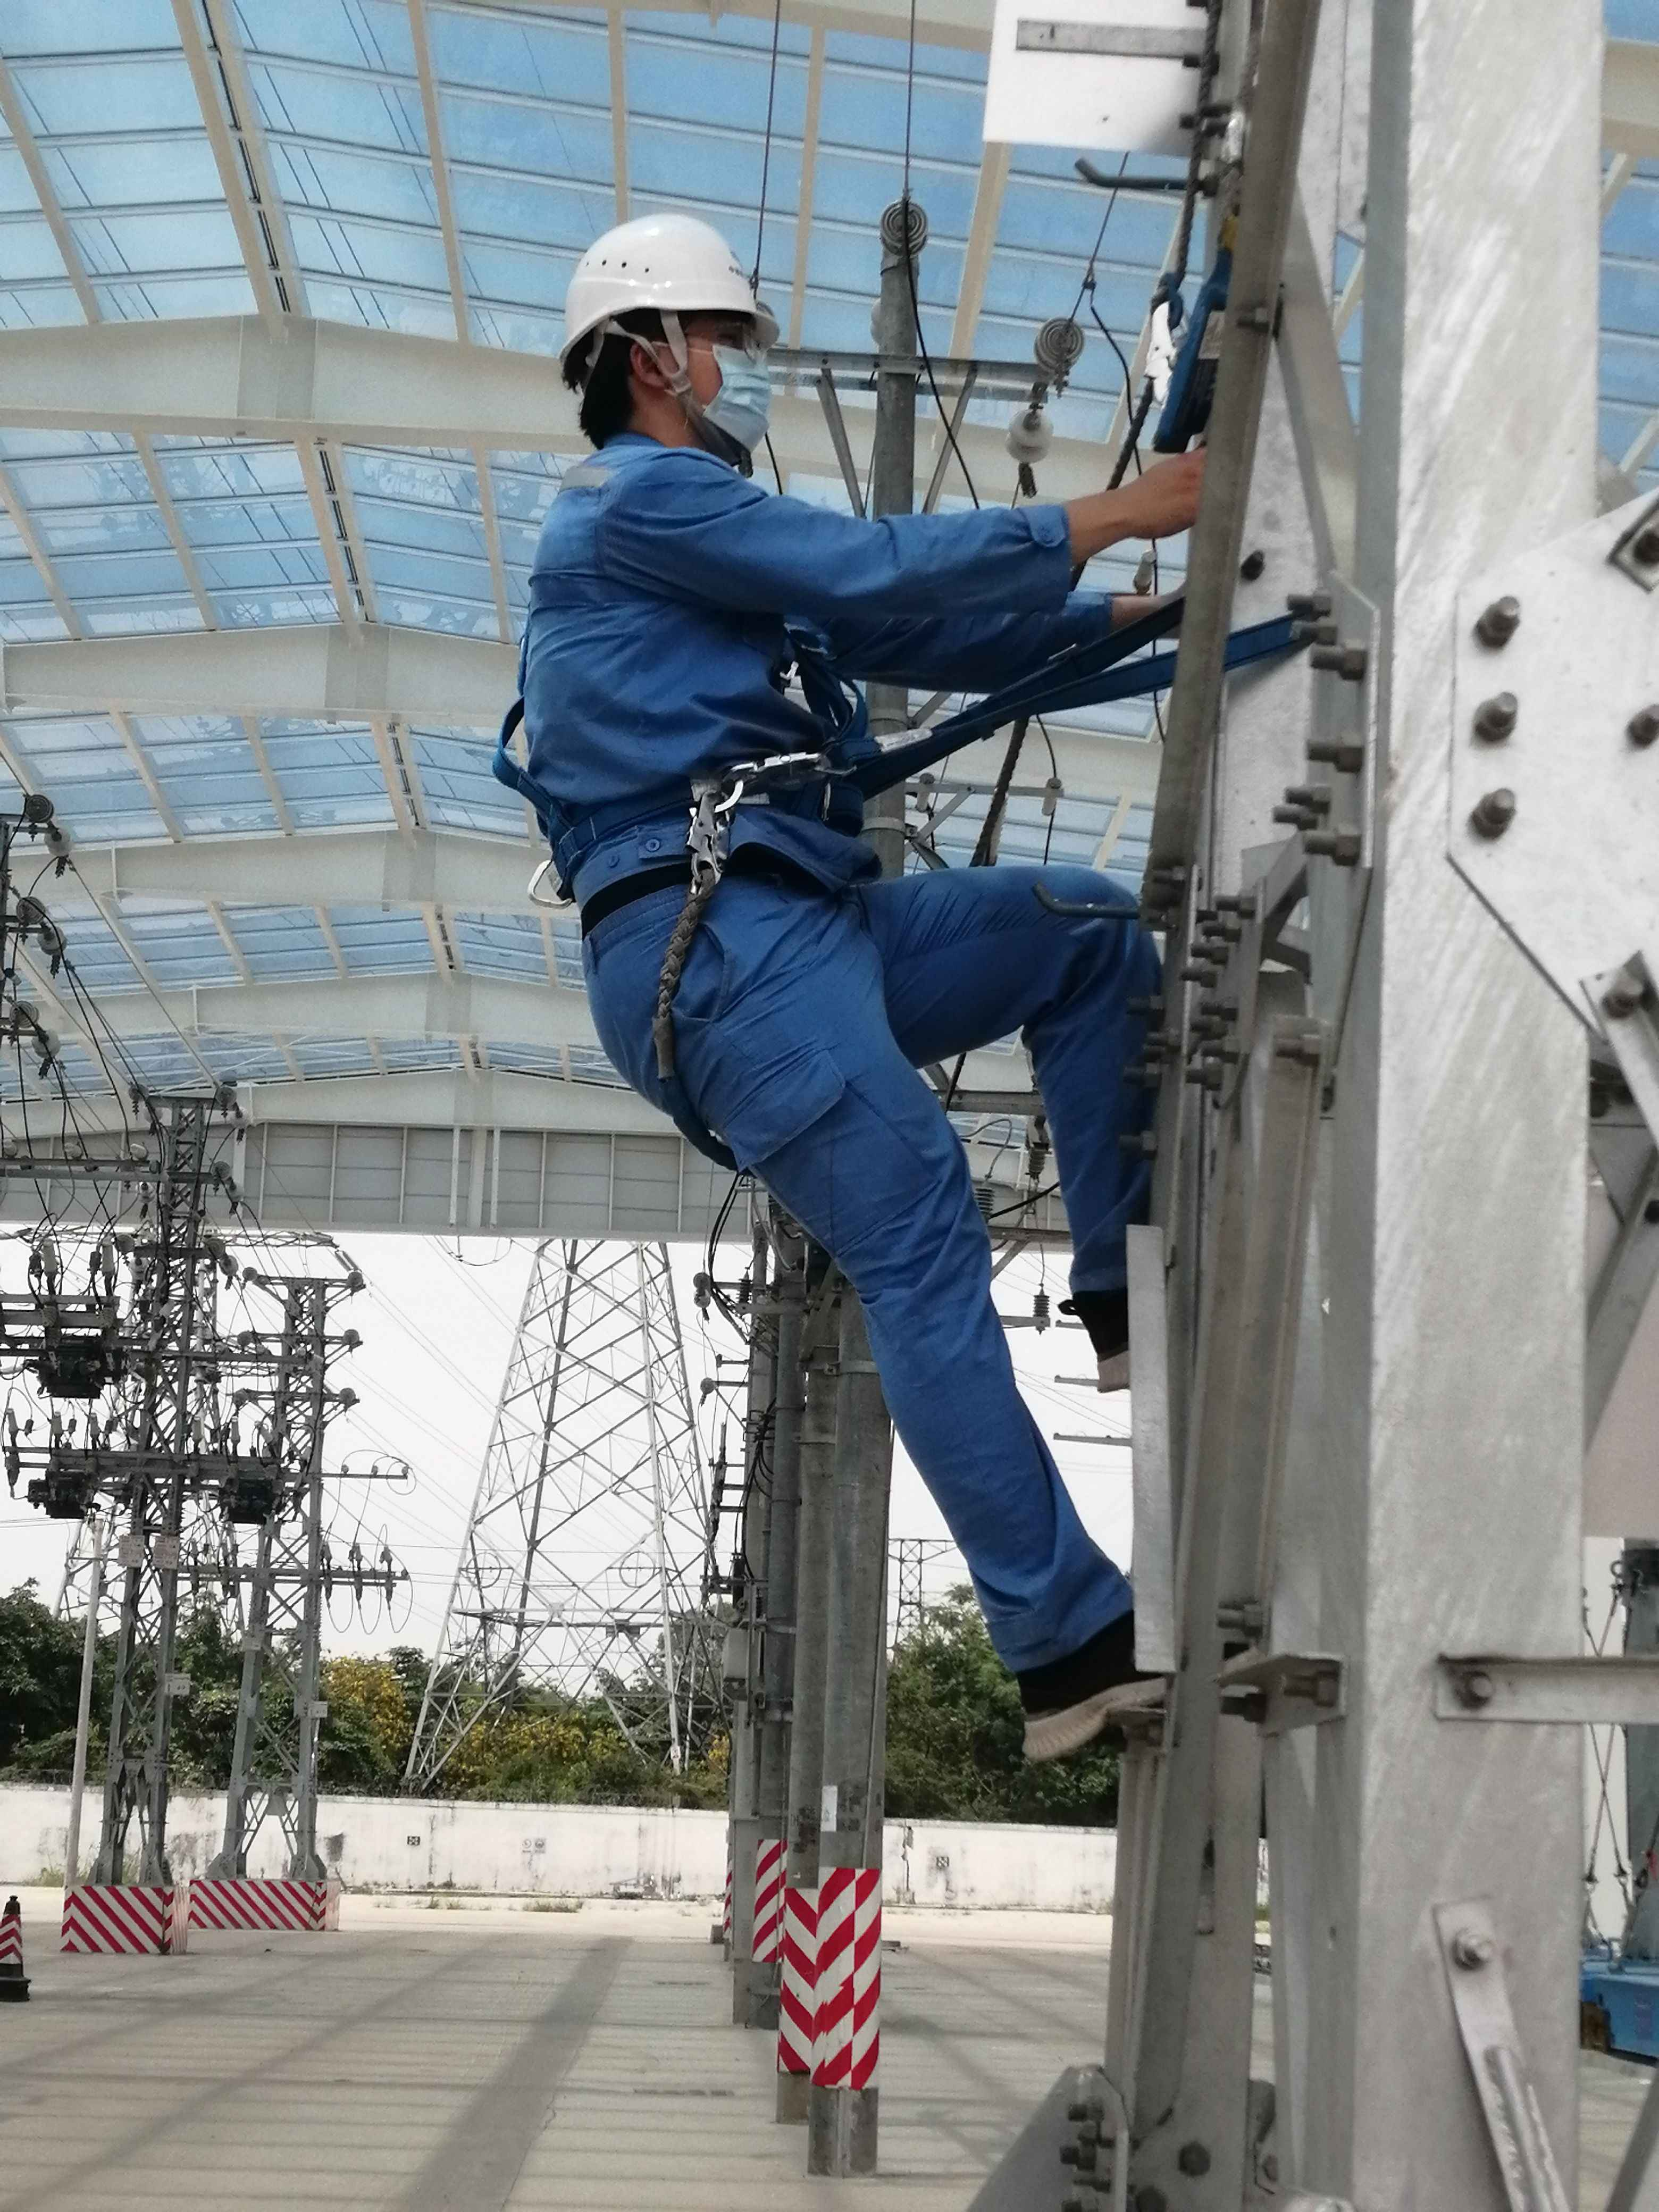downsuit: (575, 871, 1180, 1651)
upsuit: (516, 441, 1068, 867)
